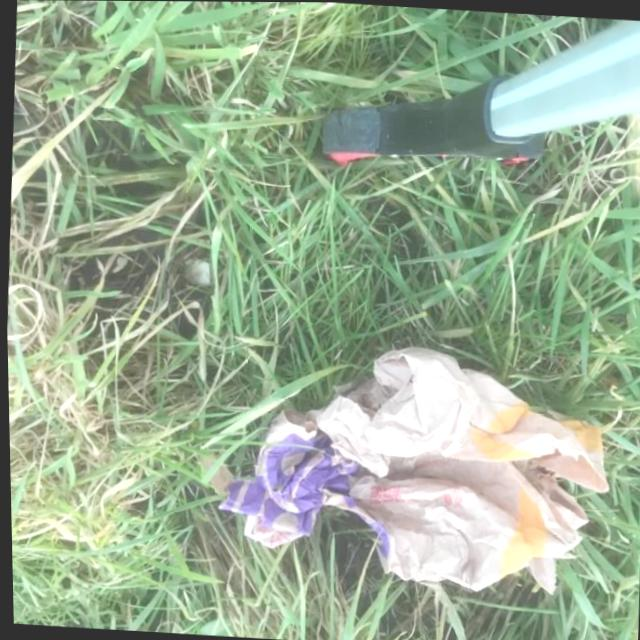Paper: (188, 332, 619, 604)
